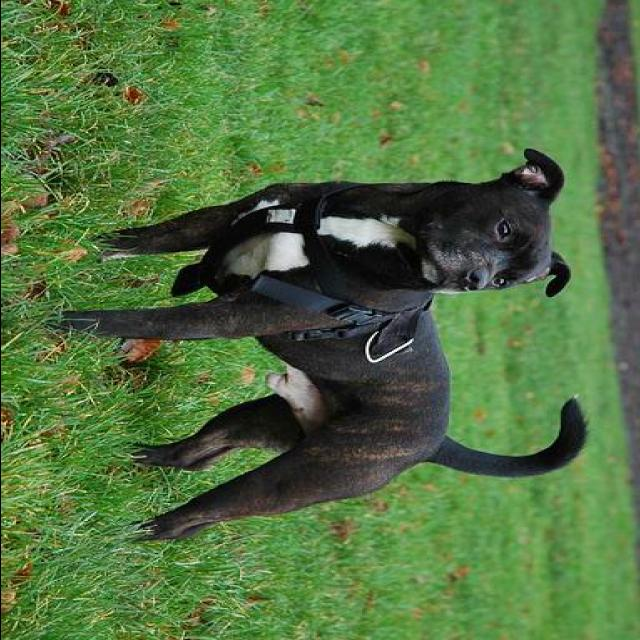staffordshire_bullterrier: (38, 145, 590, 546)
